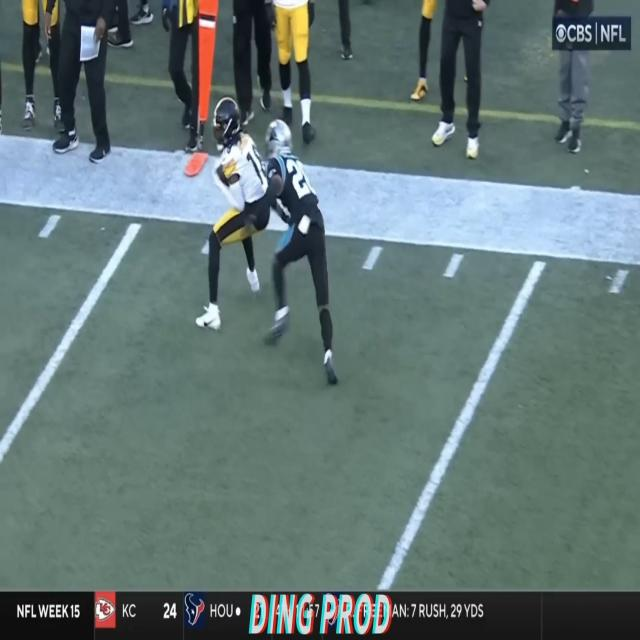players: (230, 120, 342, 358), (204, 101, 275, 342)
